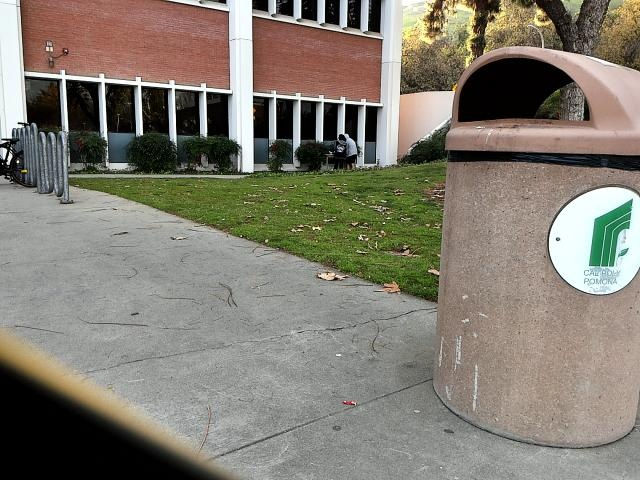trashcan: (416, 51, 640, 447)
